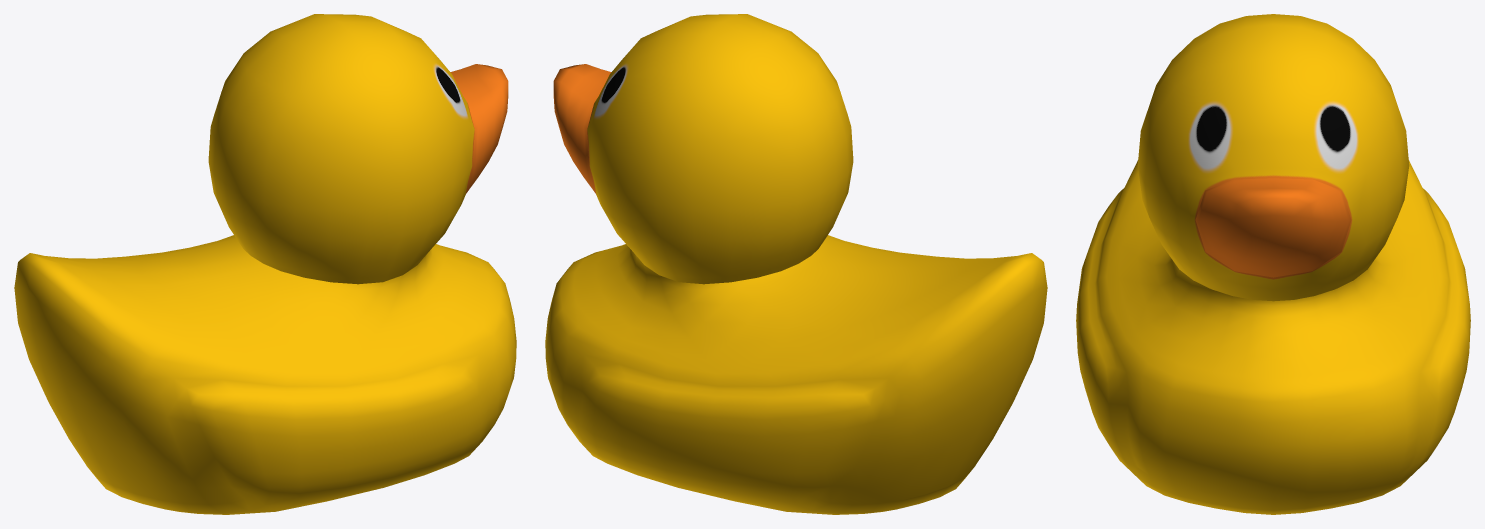
Rendered from RubberDuck_LOD1.fbx.
3 renders of one model, left to right at view 1: azimuth 30°, elevation 25°; view 2: azimuth 150°, elevation 25°; view 3: azimuth 270°, elevation 25°, orthographic. The views are drawn at different scales.
Parts seen in each view (by area): view 1: RubberDuck_LOD1; view 2: RubberDuck_LOD1; view 3: RubberDuck_LOD1.
Part boxes in pixels (<box>): RubberDuck_LOD1: <box>14,14,516,514</box>; RubberDuck_LOD1: <box>545,14,1047,514</box>; RubberDuck_LOD1: <box>1076,14,1470,514</box>.
Size of the model in its own units: 45.06 by 37.76 by 30.94.
